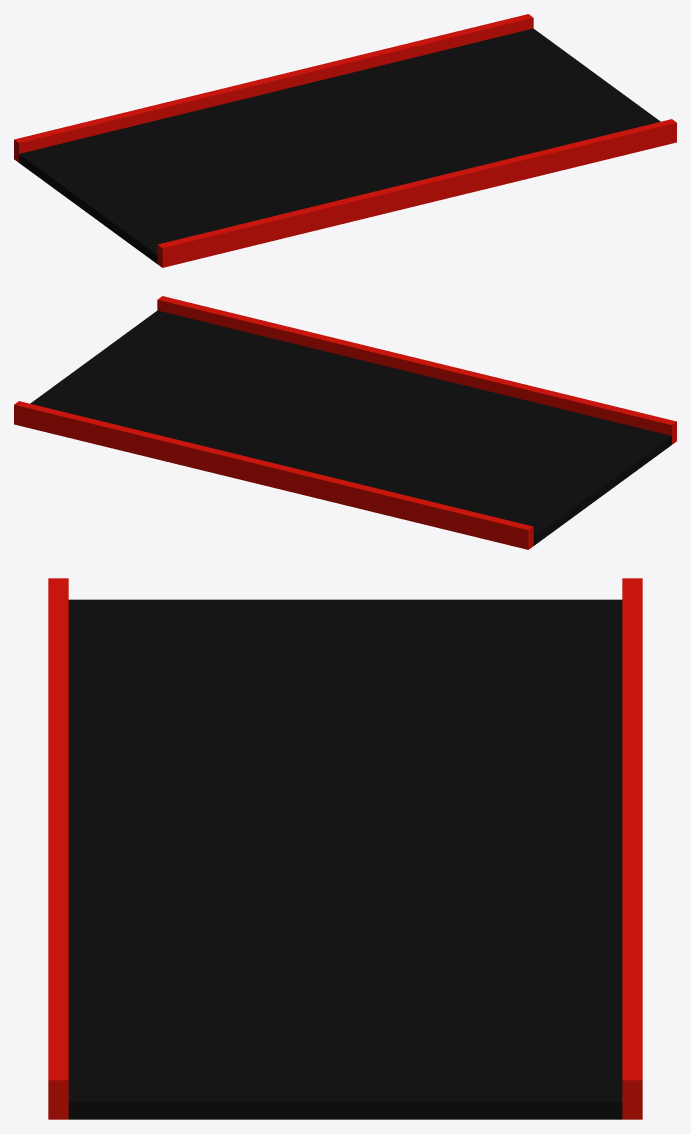
The model's file is _traight_03.fbx.
3 renders of one model, top to bottom at view 1: azimuth 30°, elevation 25°; view 2: azimuth 150°, elevation 25°; view 3: azimuth 270°, elevation 25°, orthographic. The views are drawn at different scales.
Visible parts, largest first — view 1: Straight_03; view 2: Straight_03; view 3: Straight_03.
Boxes of the visible parts, x1,y1,x2,y2 form: Straight_03: [14, 14, 676, 267]; Straight_03: [14, 296, 676, 549]; Straight_03: [48, 578, 642, 1119].
Bounding box in the file's own units: 118 × 4.33 × 59.06.
